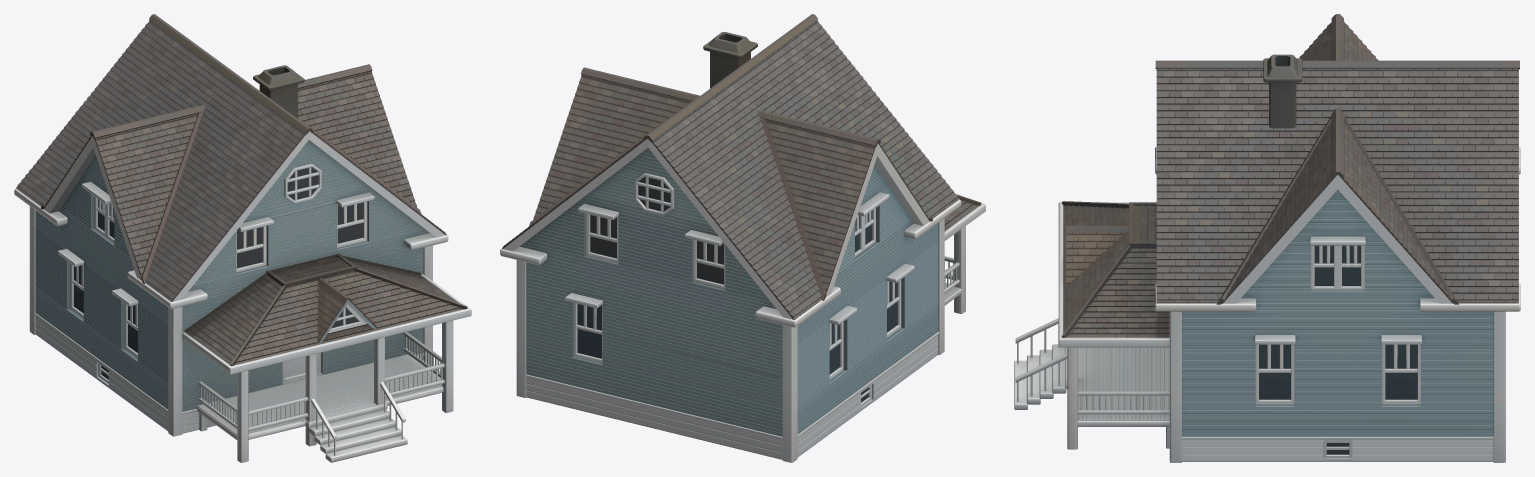
The model's file is house.gltf.
The picture shows the model from 3 angles, left to right: view 1: azimuth 30°, elevation 25°; view 2: azimuth 150°, elevation 25°; view 3: azimuth 270°, elevation 25°; orthographic projection. The views are drawn at different scales.
Parts seen in each view (by area): view 1: node_id38; view 2: node_id38; view 3: node_id38.
Part boxes in pixels (x1,y1,x2,y2): node_id38: (14, 14, 471, 462); node_id38: (500, 14, 985, 462); node_id38: (1014, 14, 1520, 462).
Bounding box in the file's own units: 3.76 × 3.77 × 5.07.
Materials: 1 (1 with a texture image).
